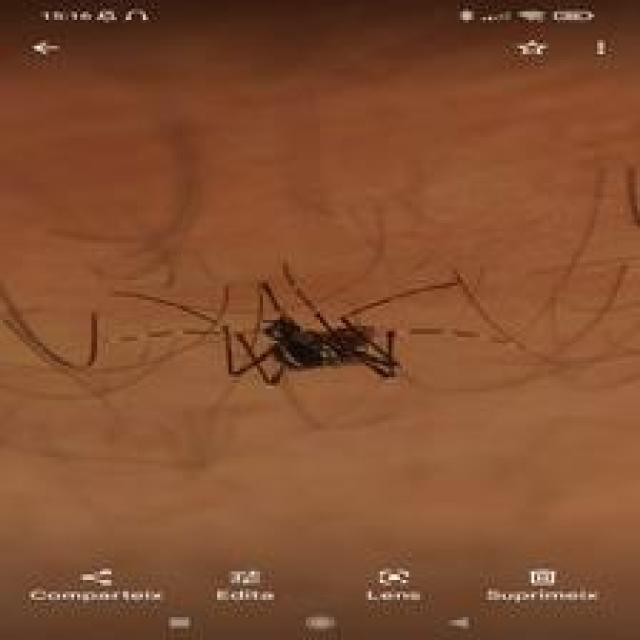Aedes albopictus: (113, 260, 464, 389)
